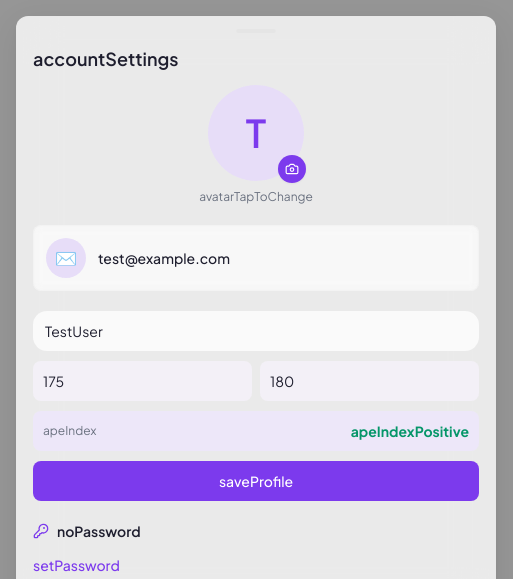
Test: SecurityDrawer › password management › expands password form on click
The image size is (513, 579).
Click the button "setPassword" at (76, 565), box top-left (33, 555), bottom-right (120, 575)
(page scrolled)
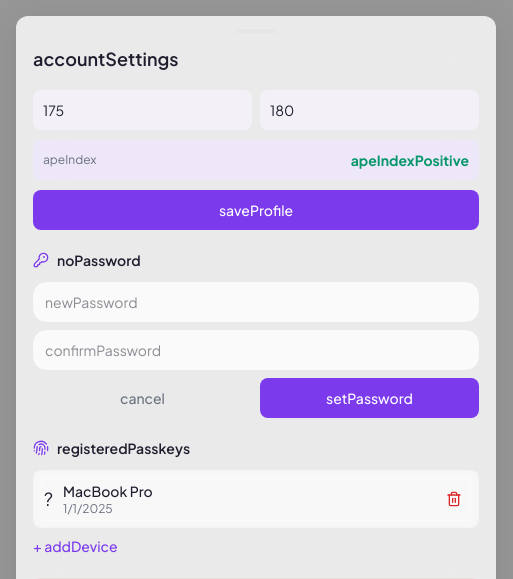
expect the password field with placeholder "newPassword" is shown: met, box top-left (33, 282), bottom-right (479, 322)
expect the password field with placeholder "confirmPassword" is shown: met, box top-left (33, 330), bottom-right (479, 370)
